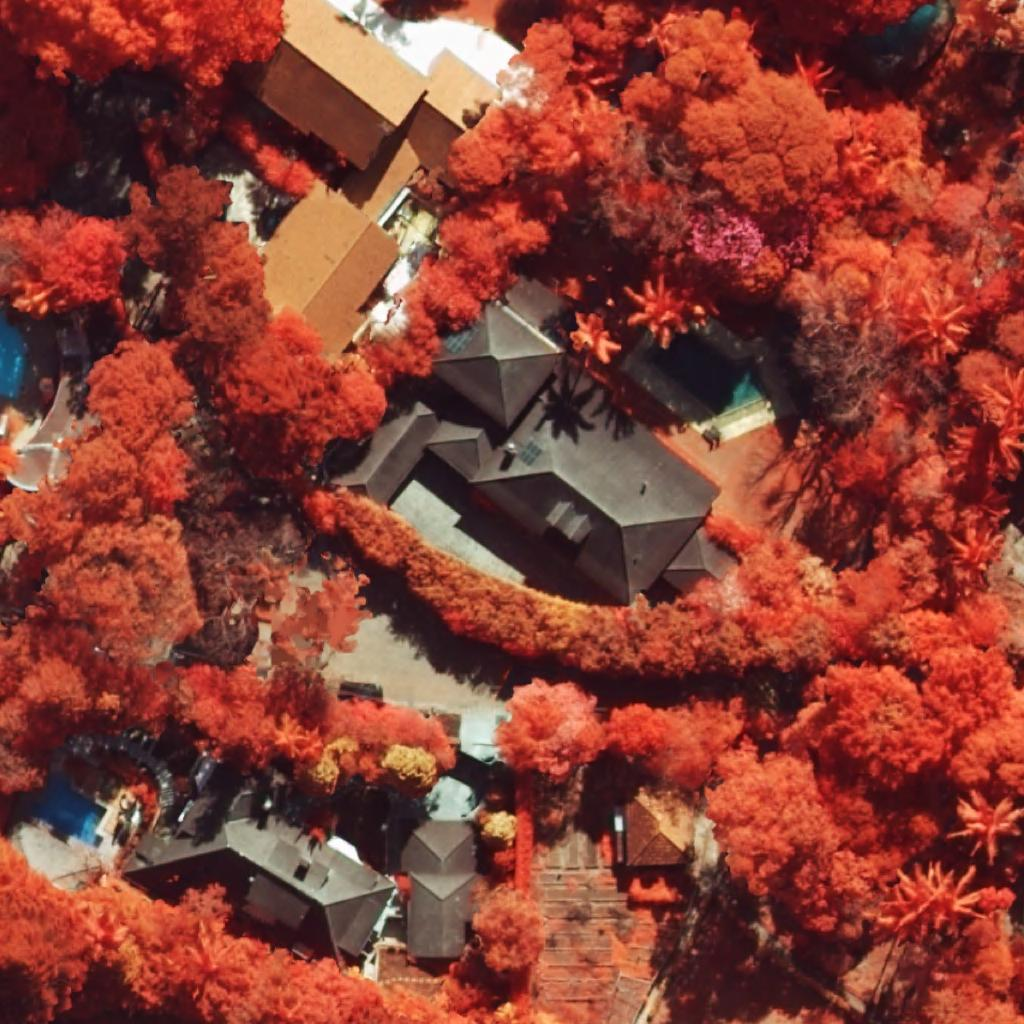pool: (644, 330, 765, 416), (30, 775, 107, 849), (0, 313, 27, 399)
